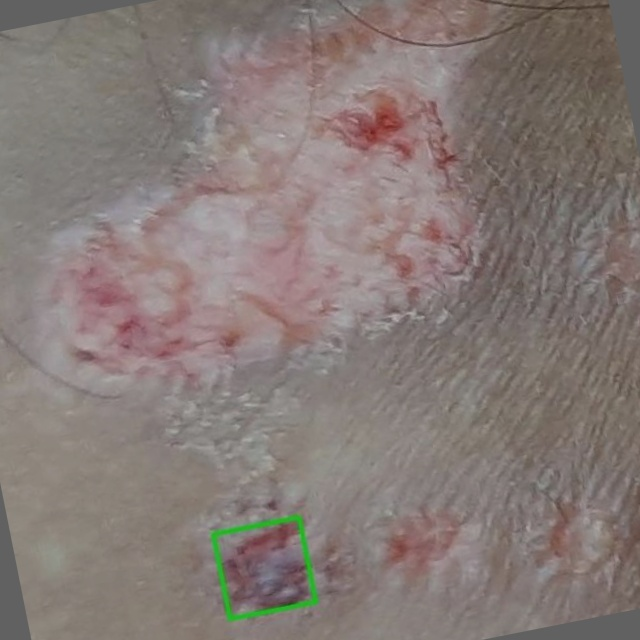Eczema: (213, 517, 315, 619)
